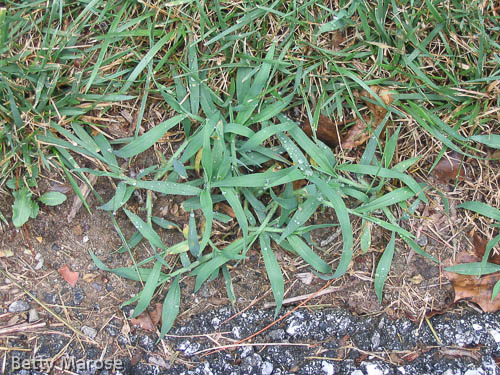crabgrass: (76, 52, 436, 307)
